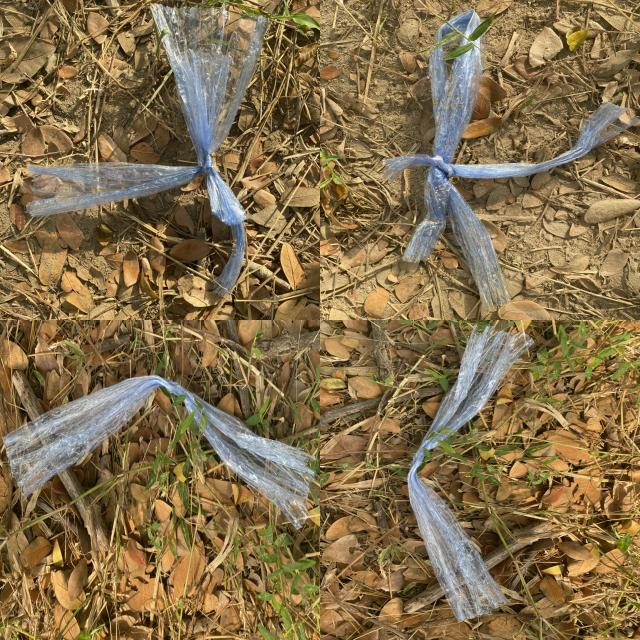Single-layer Plastic: (385, 10, 639, 308), (28, 5, 269, 296), (4, 375, 315, 529), (408, 326, 534, 620)
